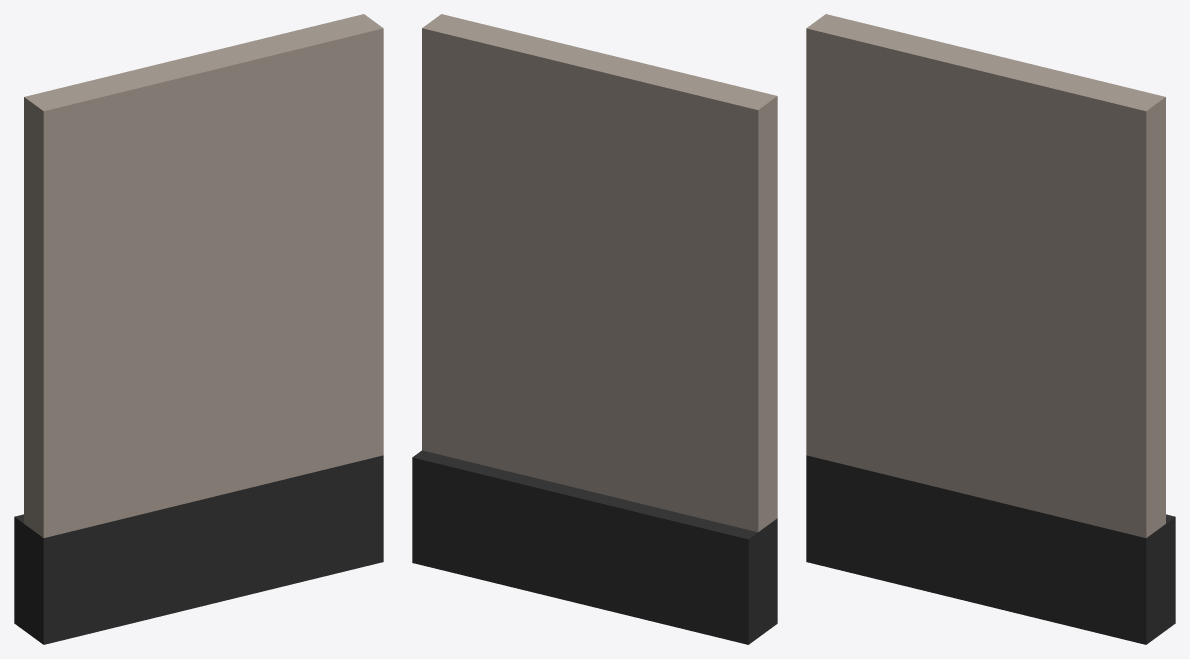
The model's file is Parede_centro.fbx.
The picture shows the model from 3 angles, left to right: view 1: azimuth 30°, elevation 25°; view 2: azimuth 150°, elevation 25°; view 3: azimuth 330°, elevation 25°; orthographic projection.
Visible parts, largest first — view 1: Parede.044; view 2: Parede.044; view 3: Parede.044.
Part boxes in pixels (box(x1,y1,x2,y2)): Parede.044: box(14, 14, 383, 644); Parede.044: box(412, 14, 777, 644); Parede.044: box(806, 14, 1175, 644).
Bounding box in the file's own units: 200 × 300 × 30.01.
